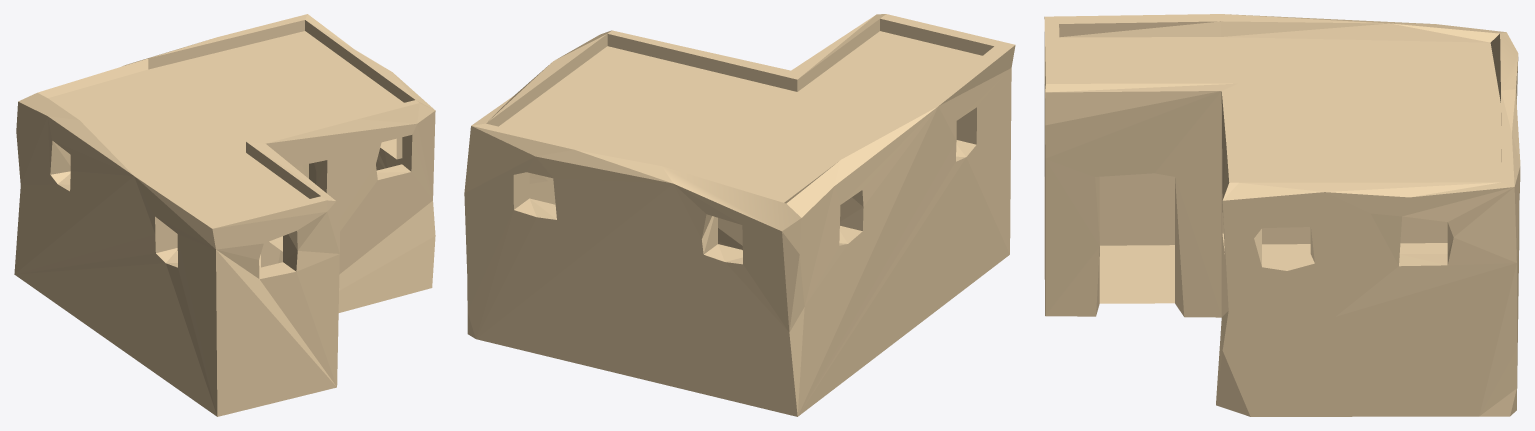
File: House_Block_3_low.fbx
3 views of the same model, side by side, from view 1: azimuth 30°, elevation 25°; view 2: azimuth 150°, elevation 25°; view 3: azimuth 270°, elevation 25° (orthographic). The views are drawn at different scales.
Visible parts, largest first — view 1: House_Block_3_low; view 2: House_Block_3_low; view 3: House_Block_3_low.
Boxes of the visible parts, <box> form: House_Block_3_low: <box>14,14,435,416</box>; House_Block_3_low: <box>464,14,1015,416</box>; House_Block_3_low: <box>1044,14,1520,416</box>.
Size of the model in its own units: 7.09 by 4.25 by 8.09.
